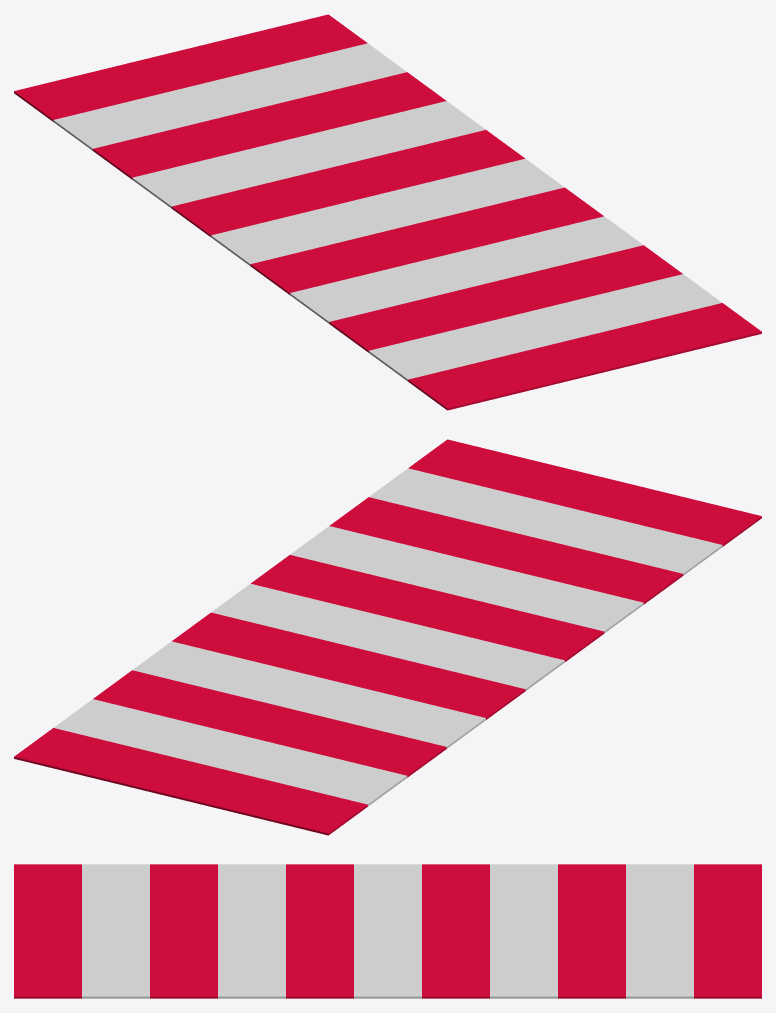
The model's file is strandlaken.fbx.
3 renders of one model, top to bottom at view 1: azimuth 30°, elevation 25°; view 2: azimuth 150°, elevation 25°; view 3: azimuth 270°, elevation 25°, orthographic. The views are drawn at different scales.
Visible parts, largest first — view 1: Cube; view 2: Cube; view 3: Cube.
Boxes of the visible parts, x1,y1,x2,y2 form: Cube: [14, 14, 761, 410]; Cube: [14, 439, 761, 835]; Cube: [14, 864, 761, 998].
Bounding box in the file's own units: 0.8367 × 0.00534 × 2.
